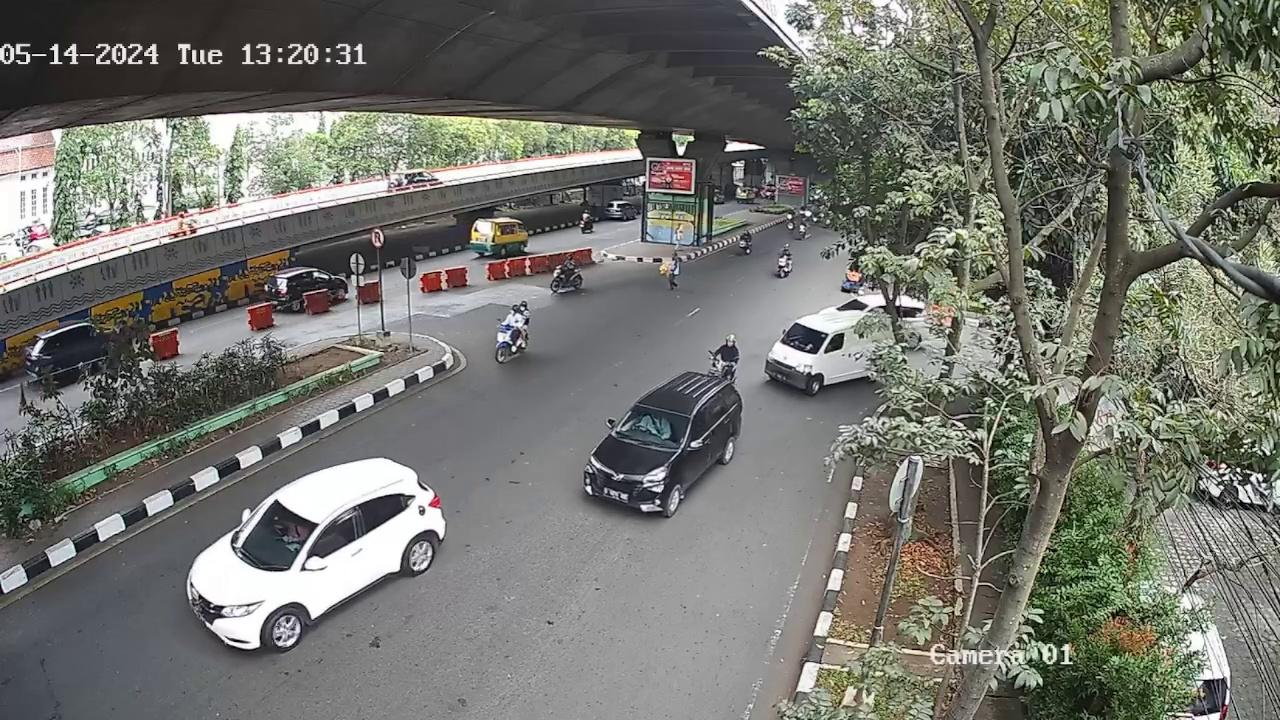pakai: (640, 412, 673, 443)
windshield: (613, 404, 690, 452)
